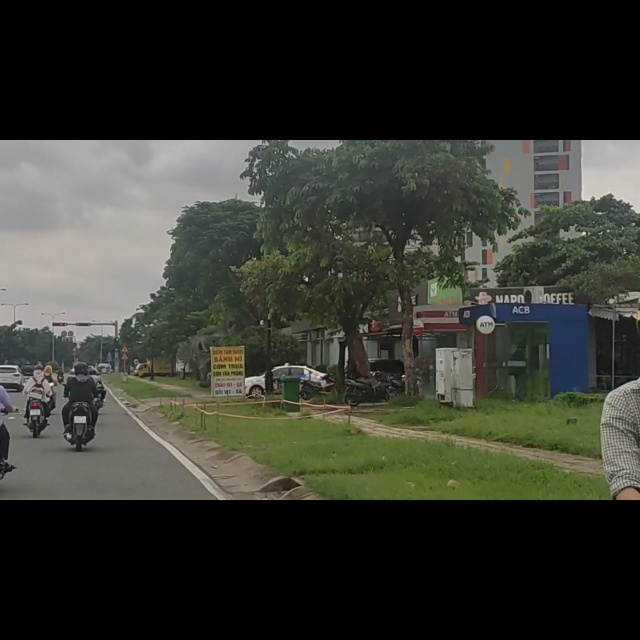Giao nhau với đường không ưu tiên: (121, 346, 129, 352)
Đường người đi bộ sang đường: (121, 353, 129, 359)
